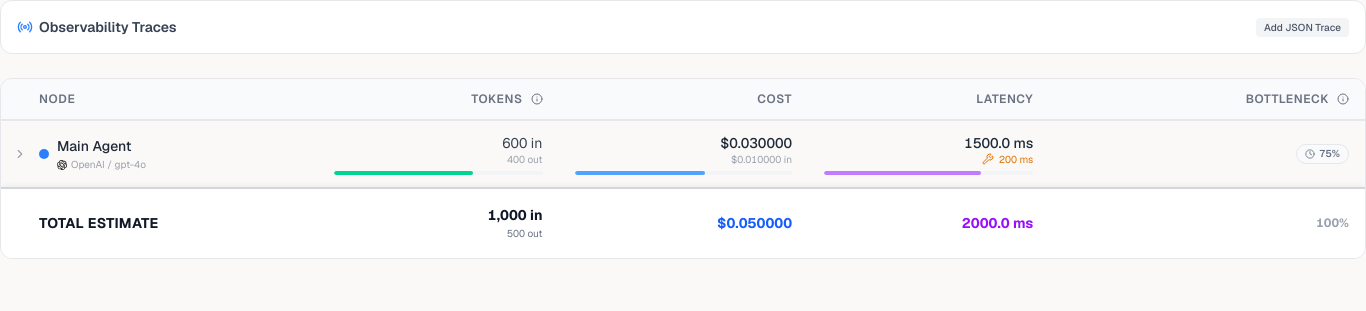
it: BreakdownTab Component › expands tool impacts when chevron is clicked
Expected: the text "Search Web" is not shown
Click the button without text next to "Main Agent".
click(20, 154)  # box [9, 143, 31, 165]
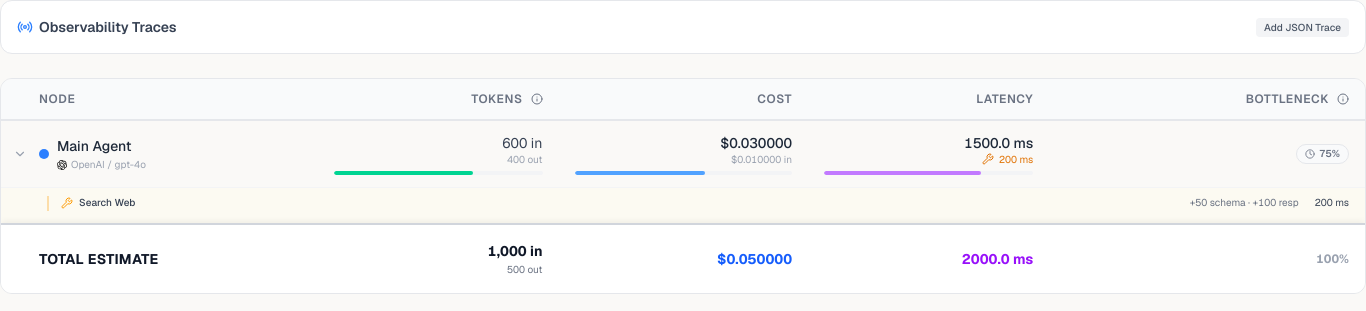
Expected: the text "Search Web" is shown, [61, 196, 136, 211]
